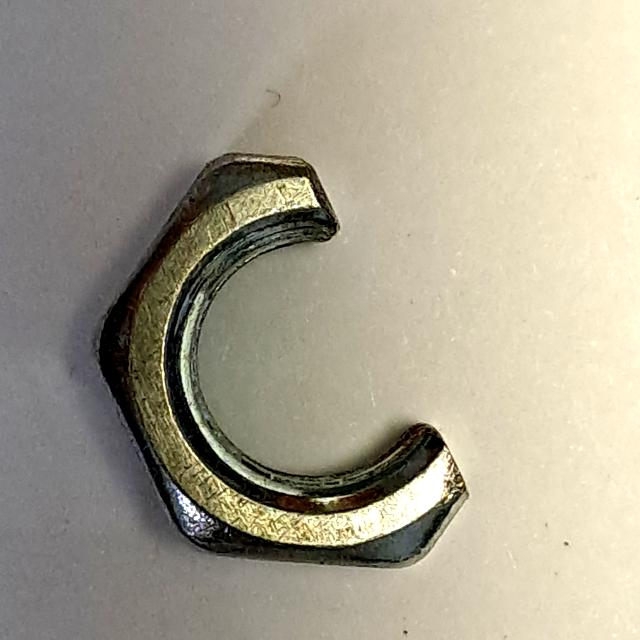Fracture: (76, 134, 491, 589)
